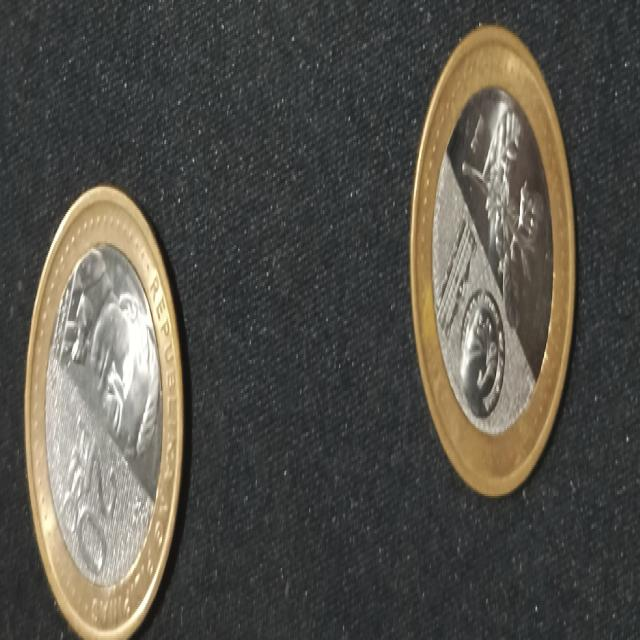20_peso: (411, 27, 573, 492), (26, 187, 182, 636)
